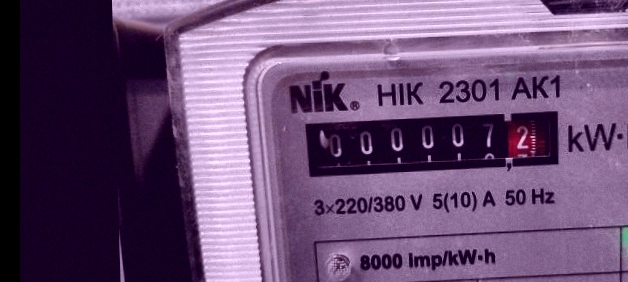0: (388, 125, 407, 153), (358, 128, 376, 157), (327, 131, 345, 159), (450, 121, 467, 149), (420, 123, 436, 150)
2: (515, 123, 532, 152)
7: (480, 121, 497, 150)
screen: (297, 102, 573, 183)
